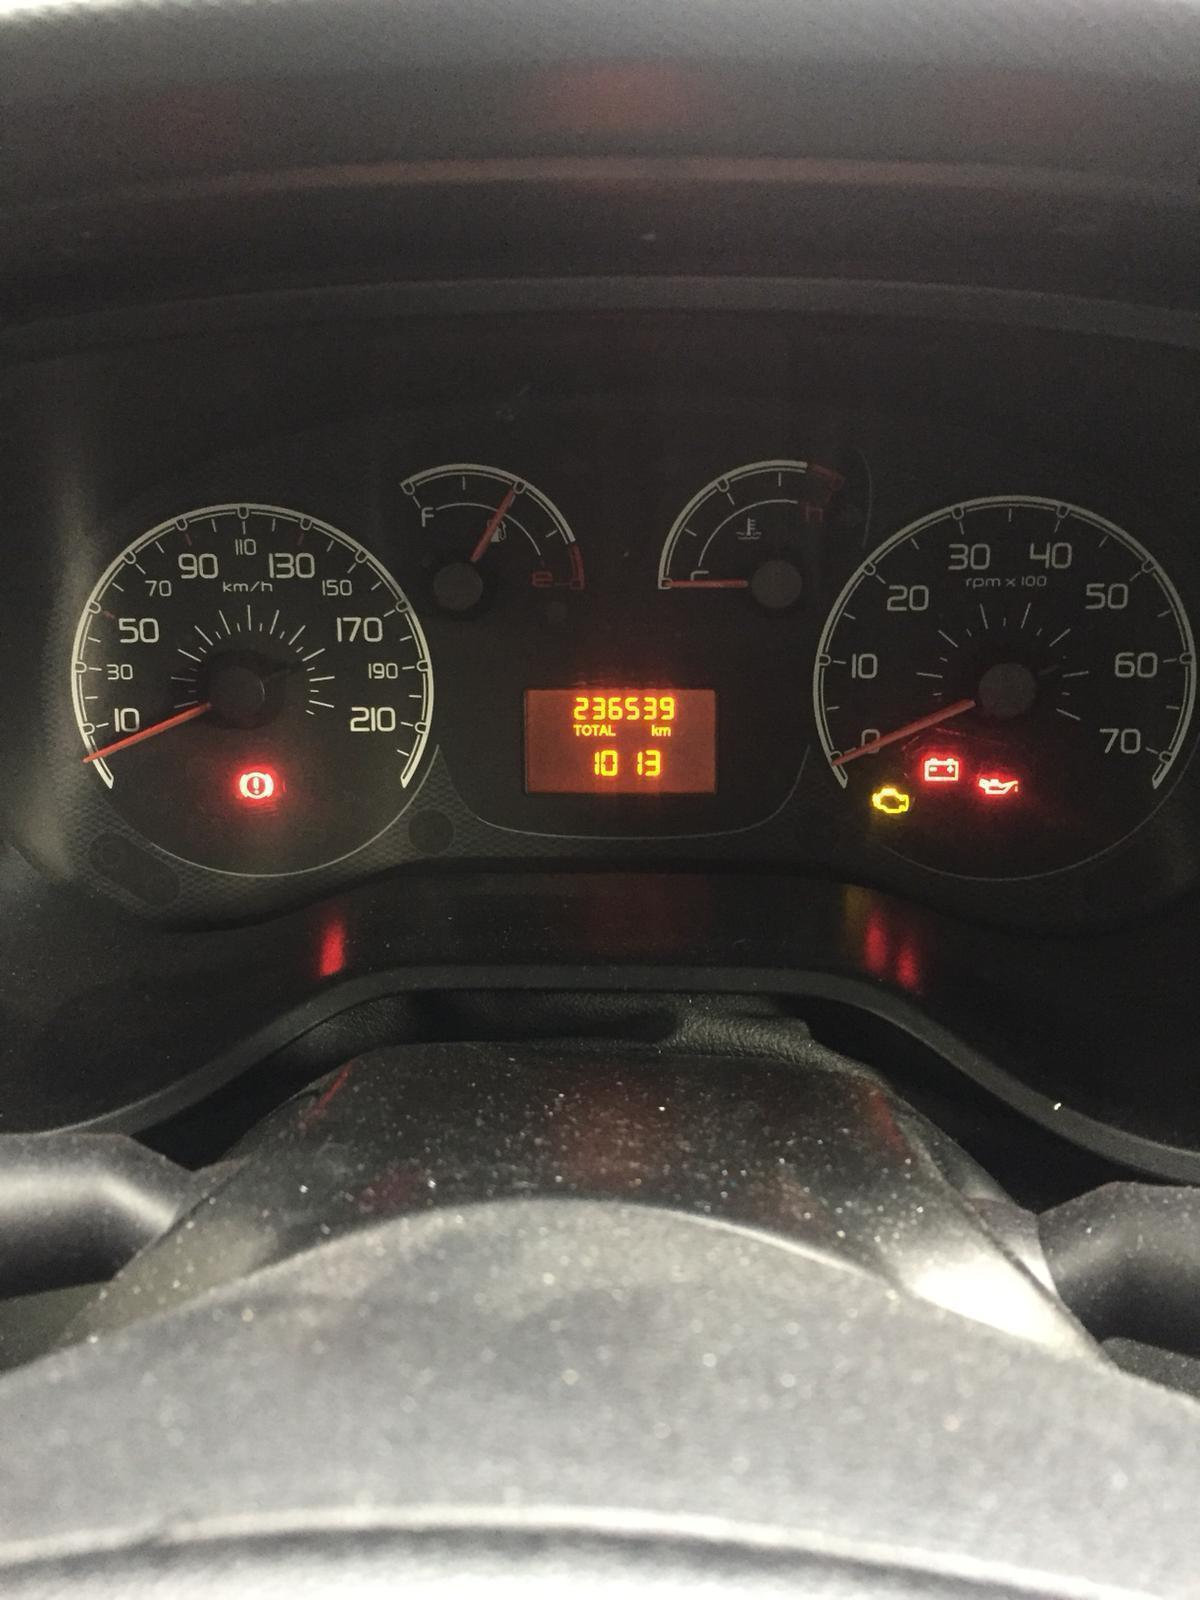0: (600, 748, 616, 777)
1: (635, 750, 645, 776), (592, 750, 600, 776)
2: (574, 695, 591, 721)
3: (645, 747, 661, 779), (642, 695, 657, 721), (591, 695, 605, 719)
5: (625, 695, 640, 721)
6: (608, 695, 623, 721)
9: (658, 695, 676, 721)
X: (658, 724, 672, 737), (572, 723, 581, 737), (582, 723, 591, 737), (591, 722, 600, 736), (599, 723, 608, 737), (608, 722, 616, 736), (650, 722, 658, 737)
odometer: (521, 684, 717, 794)
